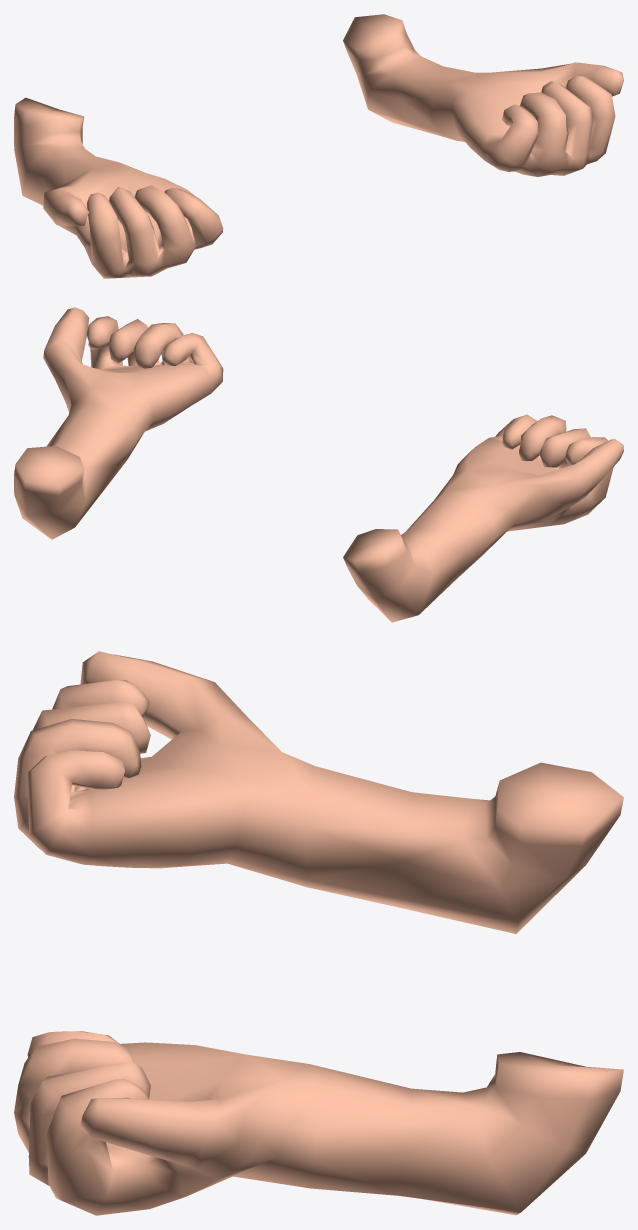
Rendered from AF_M_Arm_07.FBX.
3 renders of one model, top to bottom at view 1: azimuth 30°, elevation 25°; view 2: azimuth 150°, elevation 25°; view 3: azimuth 270°, elevation 25°, orthographic. The views are drawn at different scales.
Visible parts, largest first — view 1: AF_M_Arm_07; view 2: AF_M_Arm_07; view 3: AF_M_Arm_07.
Boxes of the visible parts, box(x1,y1,x2,y2) form: AF_M_Arm_07: box(14, 14, 623, 278); AF_M_Arm_07: box(14, 307, 623, 622); AF_M_Arm_07: box(14, 651, 623, 1215).
Bounding box in the file's own units: 653 × 133 × 366.
1 material, 1 textured.
